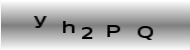2: (80, 26, 93, 40)
P: (106, 24, 120, 37)
Q: (136, 25, 153, 40)
h: (61, 20, 75, 34)
y: (33, 15, 46, 29)
